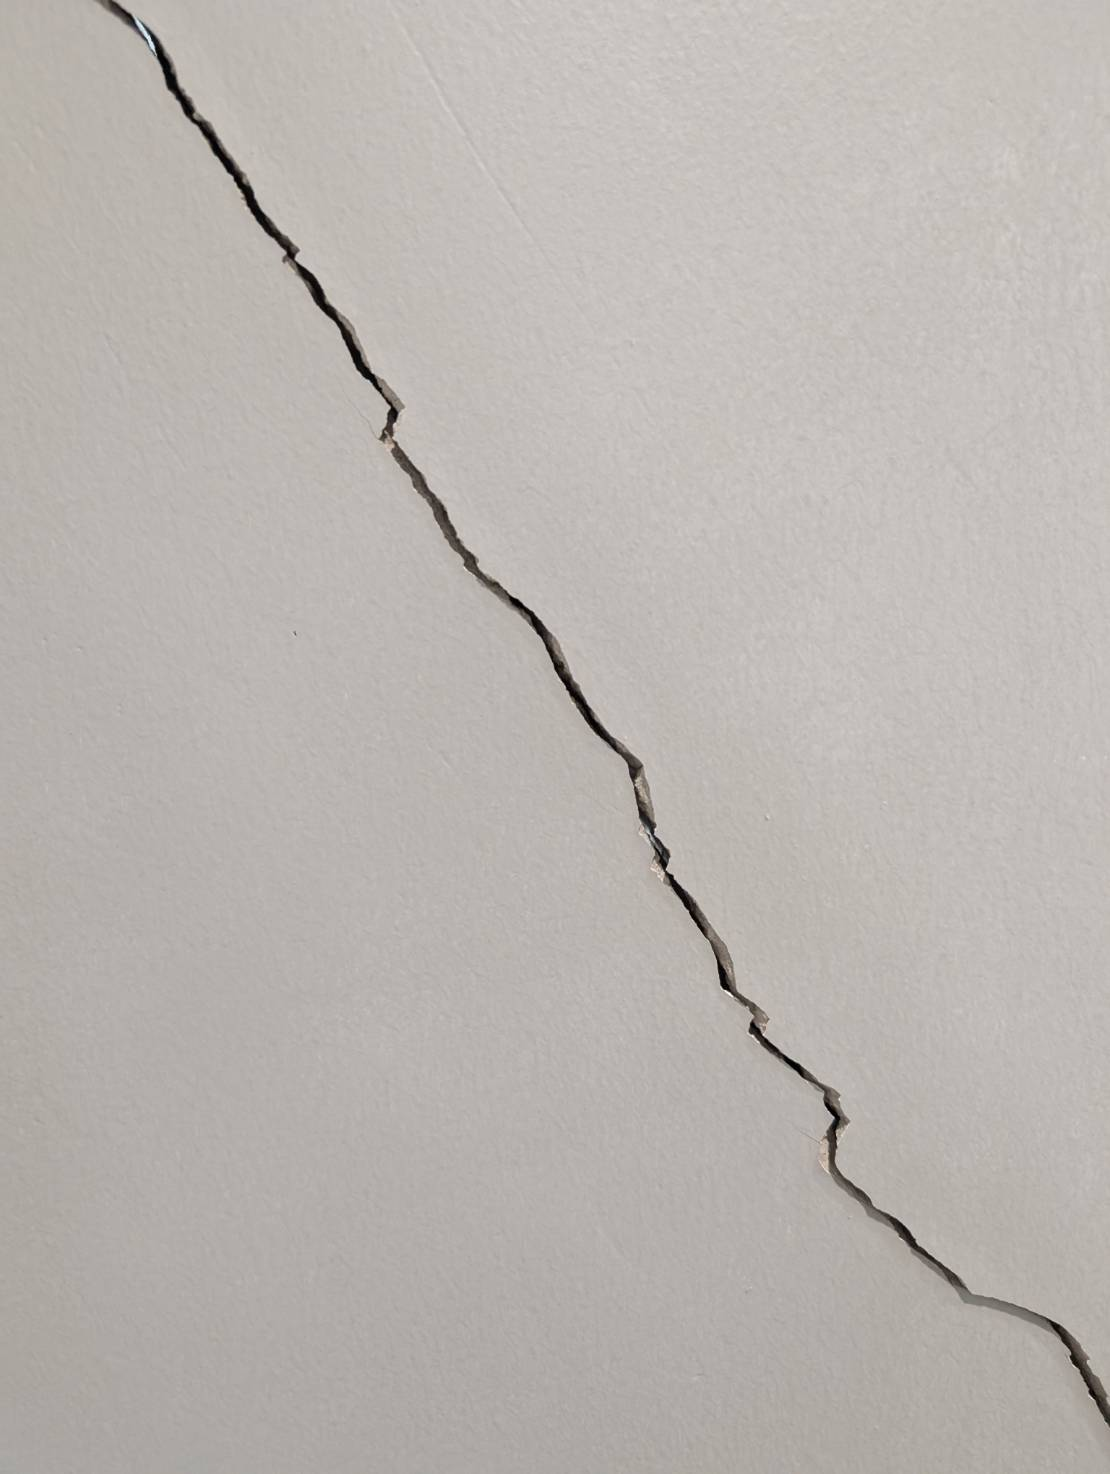High: (80, 3, 1110, 1472)
